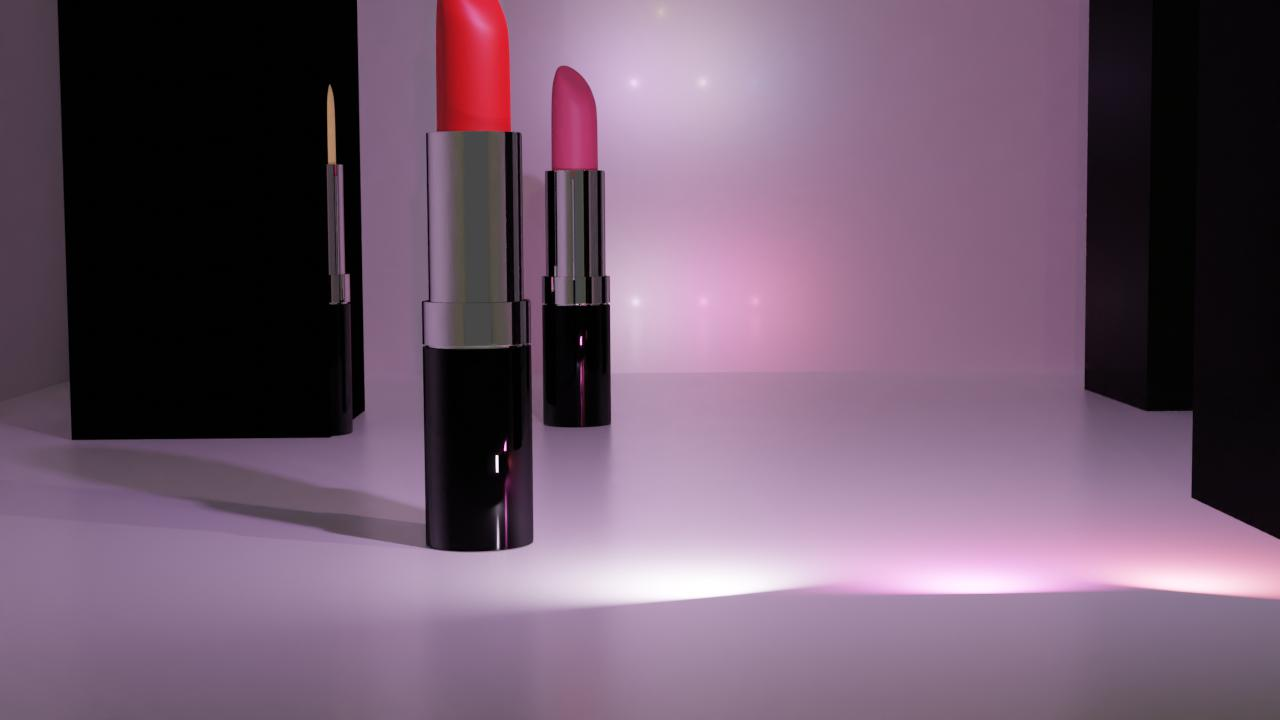CLASSIFIER_NAME: (420, 0, 535, 552), (541, 61, 612, 433)
